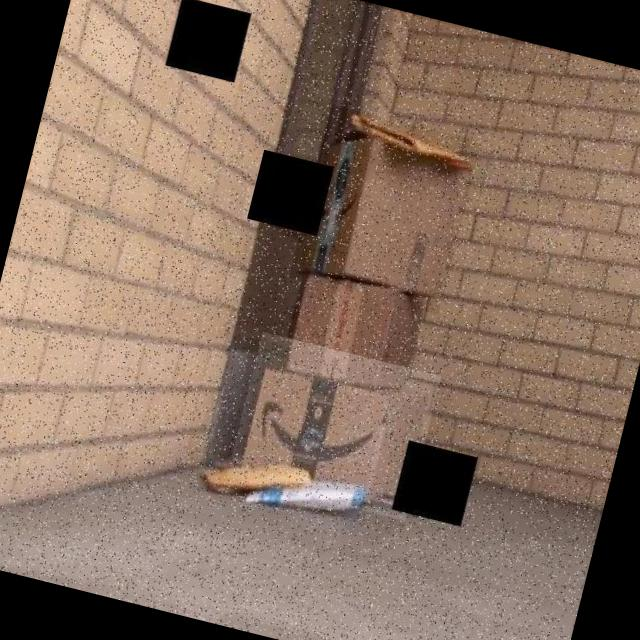box: (225, 332, 440, 522), (288, 104, 481, 315), (280, 266, 426, 392)
